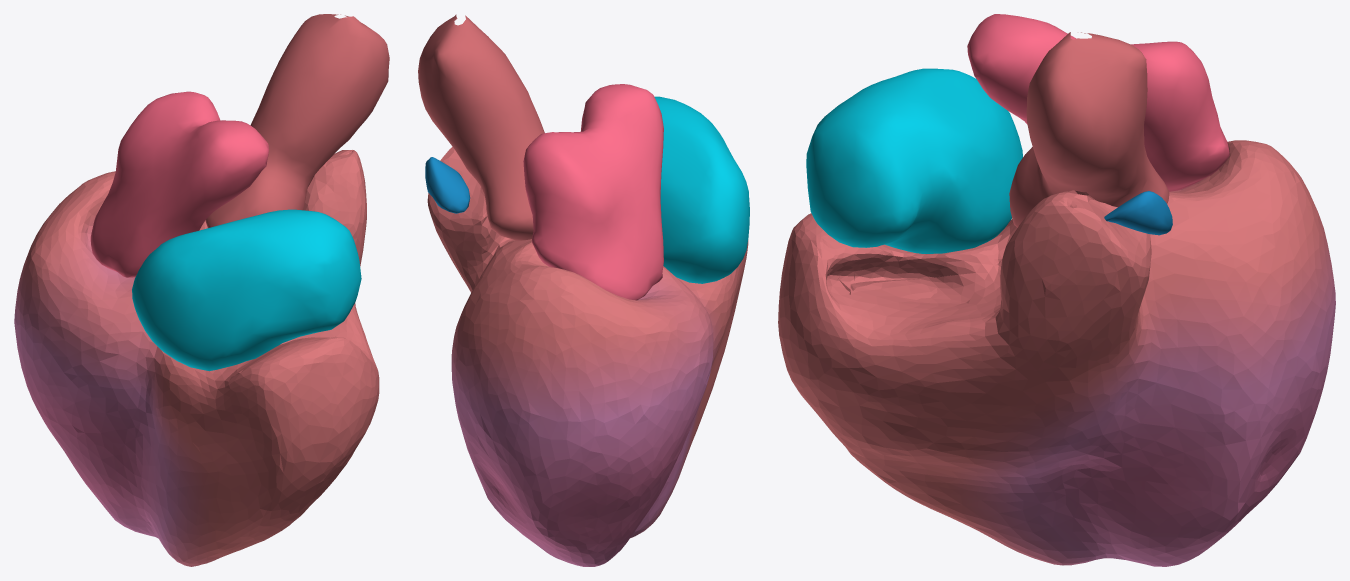
Rendered from frame_38.glb.
3 views of the same model, side by side, from view 1: azimuth 30°, elevation 25°; view 2: azimuth 150°, elevation 25°; view 3: azimuth 270°, elevation 25° (orthographic). The views are drawn at different scales.
Visible parts, largest first — view 1: Renderer Node; view 2: Renderer Node; view 3: Renderer Node.
Part boxes in pixels (x1,y1,x2,y2): Renderer Node: (14, 14, 389, 566); Renderer Node: (418, 14, 749, 566); Renderer Node: (778, 14, 1335, 566).
Bounding box in the file's own units: 103 × 157 × 126.
